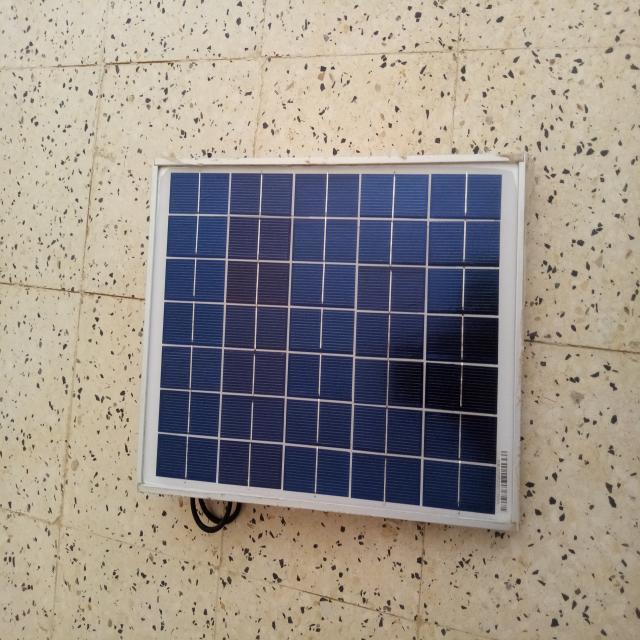no faulty: (134, 158, 526, 529)
